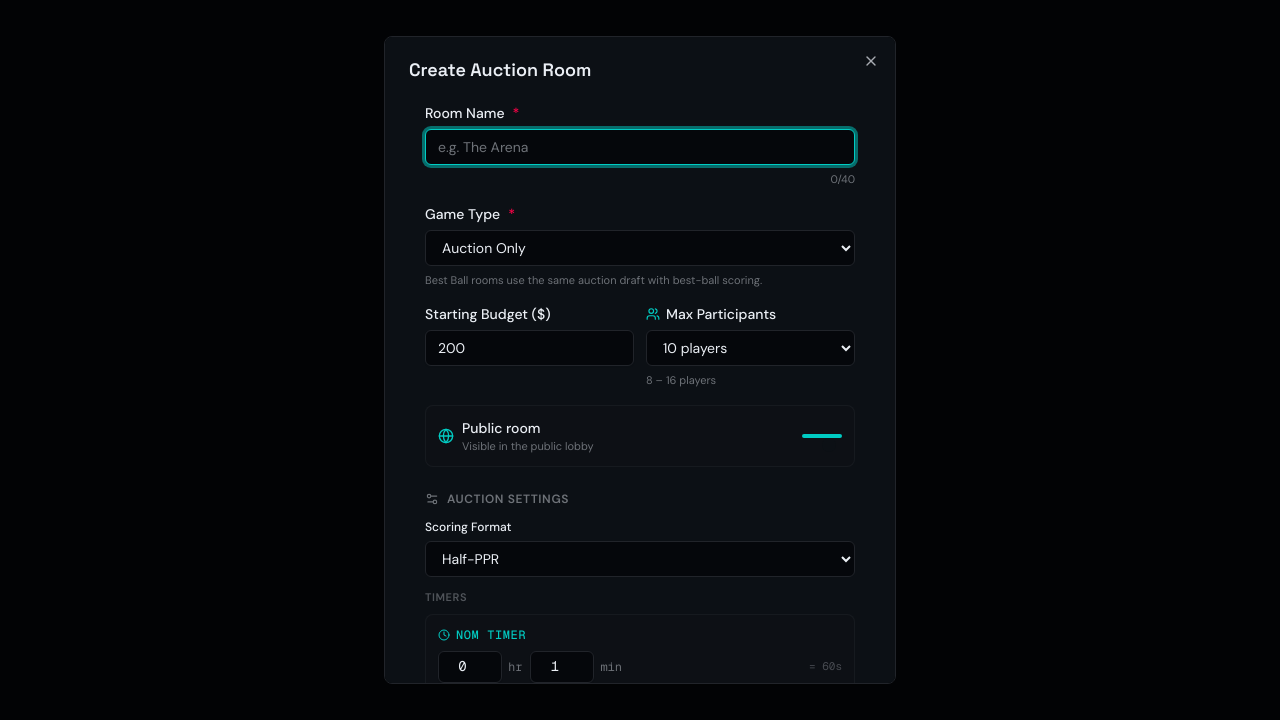
Scenario: CreateRoomDialog competition mode + playoff teams selectors › shows the competition-mode selector only when Best Ball is selected
Select "Best Ball" in the dropdown labelled "Game Type *": (640, 248) top-left (425, 230), bottom-right (855, 266)
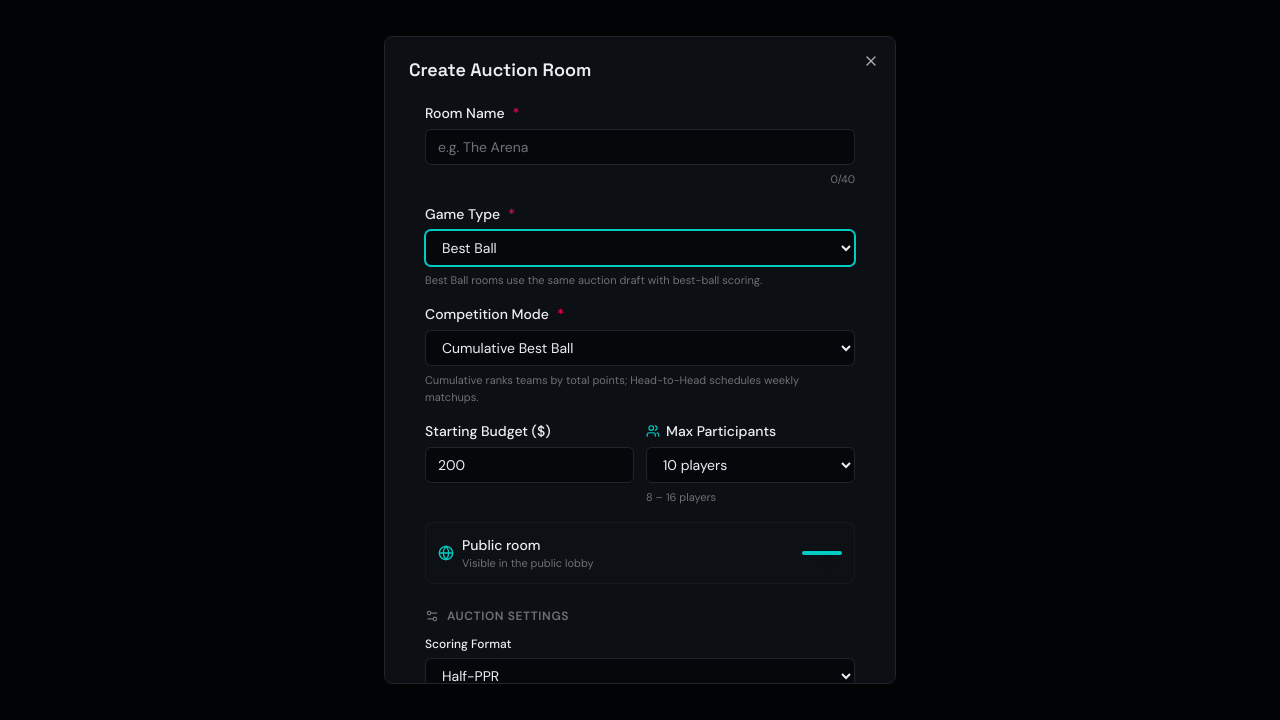
Expected: the dropdown labelled "Competition Mode *" is shown, top-left (425, 330), bottom-right (855, 366)
